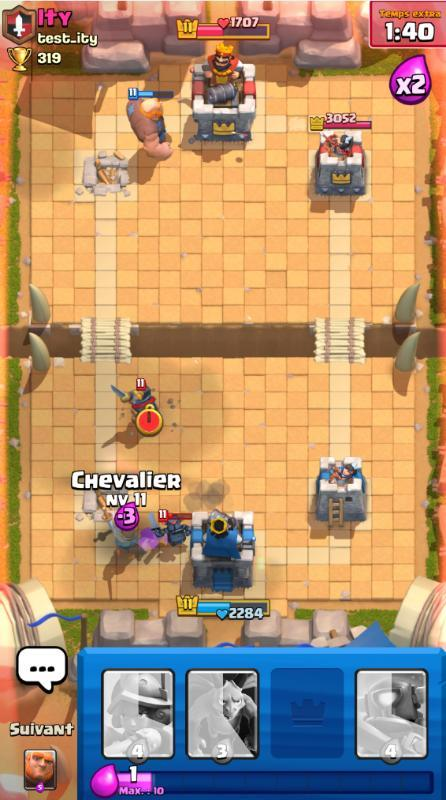chevalier: (112, 378, 158, 425), (113, 522, 150, 560)
geant: (126, 87, 174, 161)
mini_PEKKA: (148, 509, 192, 547)
